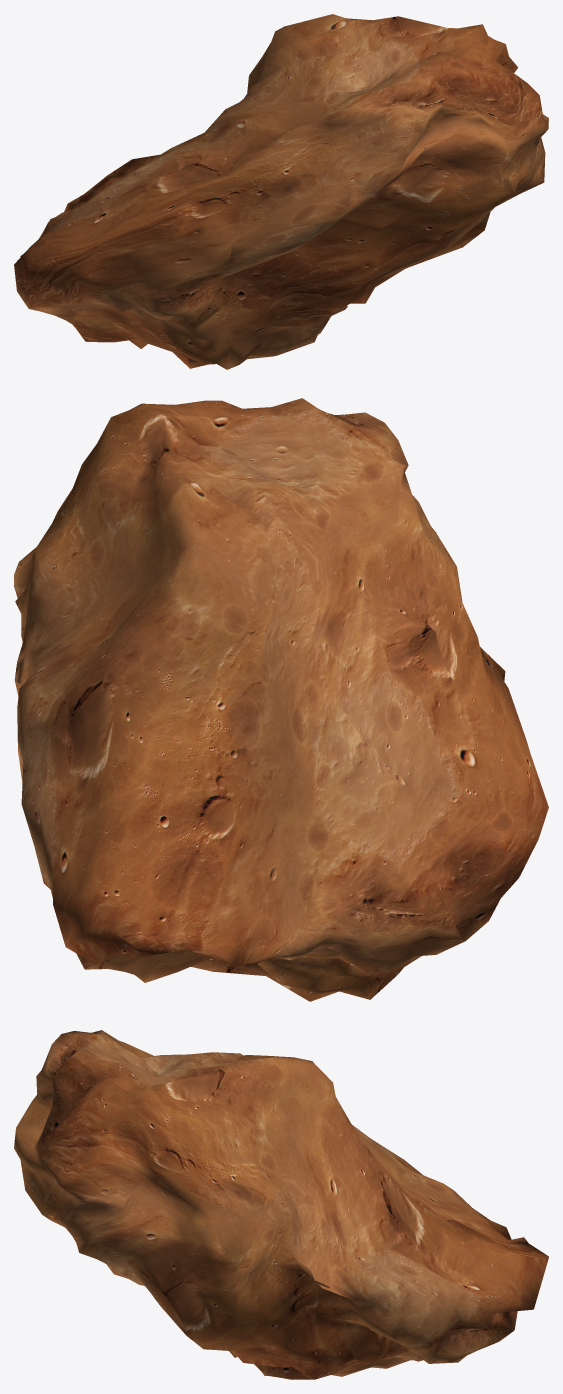
Rendered from Asteroid_05_L0.FBX.
The picture shows the model from 3 angles, top to bottom: view 1: azimuth 30°, elevation 25°; view 2: azimuth 150°, elevation 25°; view 3: azimuth 270°, elevation 25°; orthographic projection. The views are drawn at different scales.
Parts seen in each view (by area): view 1: Asteroid; view 2: Asteroid; view 3: Asteroid.
Boxes of the visible parts, x1,y1,x2,y2 form: Asteroid: [14, 14, 548, 369]; Asteroid: [14, 398, 548, 1001]; Asteroid: [14, 1030, 548, 1379].
Bounding box in the file's own units: 3.02 × 2.19 × 3.01.
